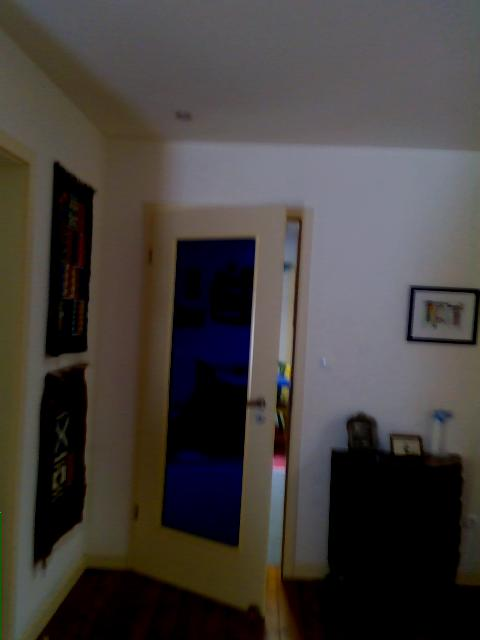semi_door: (126, 196, 311, 615)
